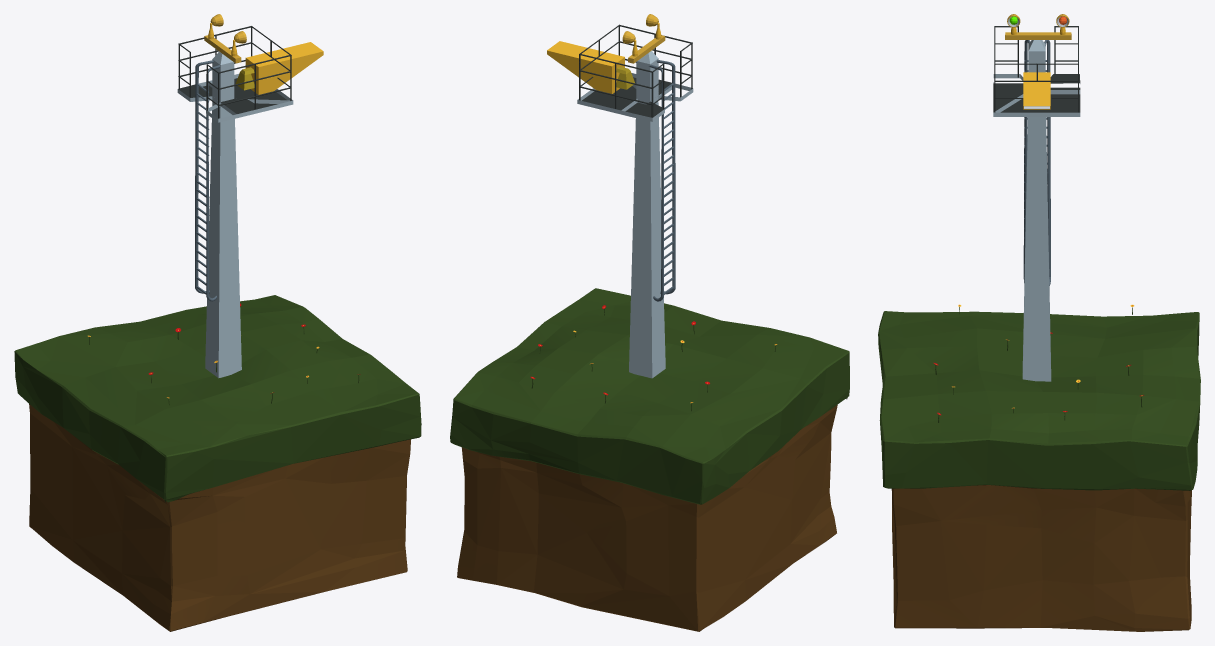
The model's file is tile_lighttower.min.gltf.
3 views of the same model, side by side, from view 1: azimuth 30°, elevation 25°; view 2: azimuth 150°, elevation 25°; view 3: azimuth 270°, elevation 25° (orthographic). The views are drawn at different scales.
Visible parts, largest first — view 1: CENTERED.004, Cube, Cube.001, Cube.005, Cylinder.015, Circle, Cylinder.019, Circle.001; view 2: CENTERED.004, Cube, Cube.001, Cube.005, Cylinder.015, Circle.001, Cylinder.019, Circle; view 3: CENTERED.004, Cube, Cube.005, Cylinder.015, Cube.001, Circle, Circle.001, Cube.004.
Part boxes in pixels (<box>): CENTERED.004: <box>14,295,421,631</box>; Cube: <box>205,51,241,378</box>; Cube.001: <box>245,42,323,94</box>; Cube.005: <box>177,74,293,122</box>; Cylinder.015: <box>178,26,291,118</box>; Circle: <box>195,60,213,293</box>; Cylinder.019: <box>196,84,209,294</box>; Circle.001: <box>206,65,220,301</box>; CENTERED.004: <box>450,288,849,631</box>; Cube: <box>629,51,665,378</box>; Cube.001: <box>547,41,624,93</box>; Cube.005: <box>577,73,693,121</box>; Cylinder.015: <box>579,24,692,117</box>; Circle.001: <box>656,60,675,294</box>; Cylinder.019: <box>664,83,673,294</box>; Circle: <box>649,64,663,301</box>; CENTERED.004: <box>878,311,1200,631</box>; Cube: <box>1022,40,1051,381</box>; Cube.005: <box>993,74,1080,116</box>; Cylinder.015: <box>994,26,1078,112</box>; Cube.001: <box>1023,72,1050,109</box>; Circle: <box>1044,40,1050,285</box>; Circle.001: <box>1023,40,1029,282</box>; Cube.004: <box>1005,32,1071,39</box>.
Size of the model in its own units: 1.07 by 2.08 by 1.09.
